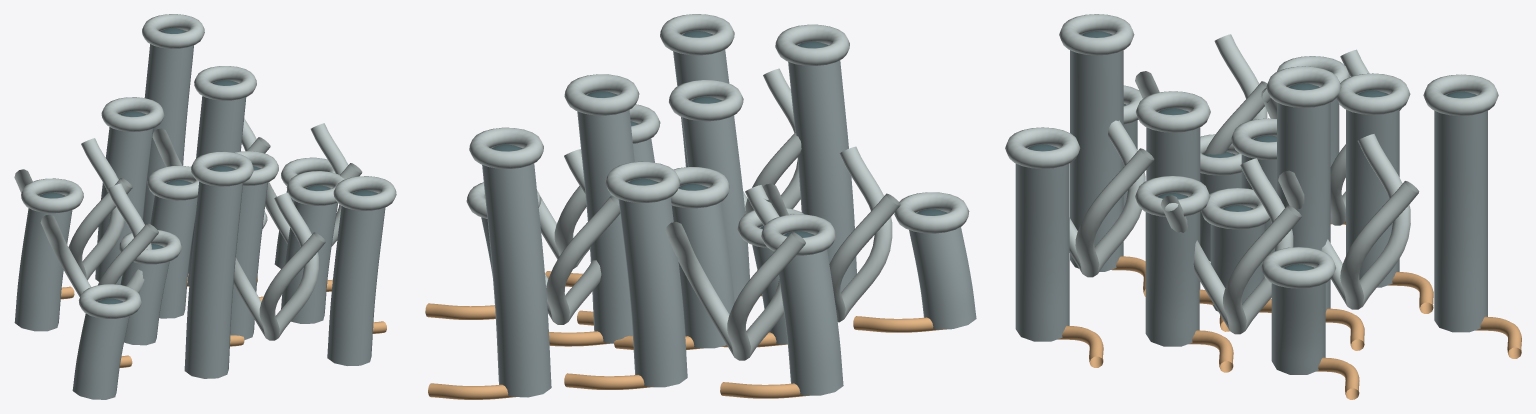
Rendered from bio_thermal_colony_19_near.glb.
The picture shows the model from 3 angles, left to right: view 1: azimuth 30°, elevation 25°; view 2: azimuth 150°, elevation 25°; view 3: azimuth 270°, elevation 25°; orthographic projection. The views are drawn at different scales.
Visible parts, largest first — view 1: Chimney biofilm.007, Chimney biofilm.010, Spiral filament.006, Chimney biofilm.009, Chimney biofilm.011, Spiral filament.012, Chimney biofilm.012, Spiral filament.003, Chimney biofilm.006, Chimney biofilm.001, Chimney biofilm.002, Chimney biofilm.005 (+17 smaller); view 2: Chimney biofilm.011, Chimney biofilm.006, Chimney biofilm.007, Chimney biofilm.003, Chimney biofilm.009, Spiral filament.003, Spiral filament.012, Chimney biofilm.001, Chimney biofilm.012, Chimney biofilm.002, Spiral filament.009, Spiral filament.006 (+21 smaller); view 3: Chimney biofilm.011, Chimney biofilm.010, Chimney biofilm.007, Spiral filament.009, Chimney biofilm.005, Spiral filament, Chimney biofilm.003, Chimney biofilm.006, Spiral filament.006, Chimney biofilm.008, Spiral filament.012, Chimney biofilm.002 (+25 smaller).
Boxes of the visible parts, x1,y1,x2,y2 form: Chimney biofilm.007: (184,168,242,378); Chimney biofilm.010: (327,192,385,365); Spiral filament.006: (233,192,325,340); Chimney biofilm.009: (14,194,72,331); Chimney biofilm.011: (143,30,193,224); Spiral filament.012: (40,183,158,296); Chimney biofilm.012: (72,300,129,399); Spiral filament.003: (14,138,132,280); Chimney biofilm.006: (95,113,153,284); Chimney biofilm.001: (150,182,197,318); Chimney biofilm.002: (230,167,267,340); Chimney biofilm.005: (281,187,337,323); Chimney biofilm.011: (482,147,551,397); Chimney biofilm.006: (618,181,687,387); Chimney biofilm.007: (788,44,856,292); Chimney biofilm.003: (577,93,634,343); Chimney biofilm.009: (778,233,843,395); Spiral filament.003: (665,185,805,360); Spiral filament.012: (763,146,900,322); Chimney biofilm.001: (671,186,734,348); Chimney biofilm.012: (909,211,976,329); Chimney biofilm.002: (682,99,749,301); Spiral filament.009: (484,149,620,324); Spiral filament.006: (743,68,801,213); Chimney biofilm.011: (1434,94,1487,332); Chimney biofilm.010: (1015,147,1069,341); Chimney biofilm.007: (1070,33,1123,271); Spiral filament.009: (1278,134,1419,309); Chimney biofilm.005: (1145,195,1199,346); Spiral filament: (1161,158,1301,334); Chimney biofilm.003: (1277,86,1330,311); Chimney biofilm.006: (1346,93,1399,287); Spiral filament.006: (1069,120,1154,277); Chimney biofilm.008: (1271,267,1325,374); Spiral filament.012: (1135,34,1271,154); Chimney biofilm.002: (1146,111,1200,289).
Bounding box in the file's own units: 1.82 × 1.03 × 1.92.
